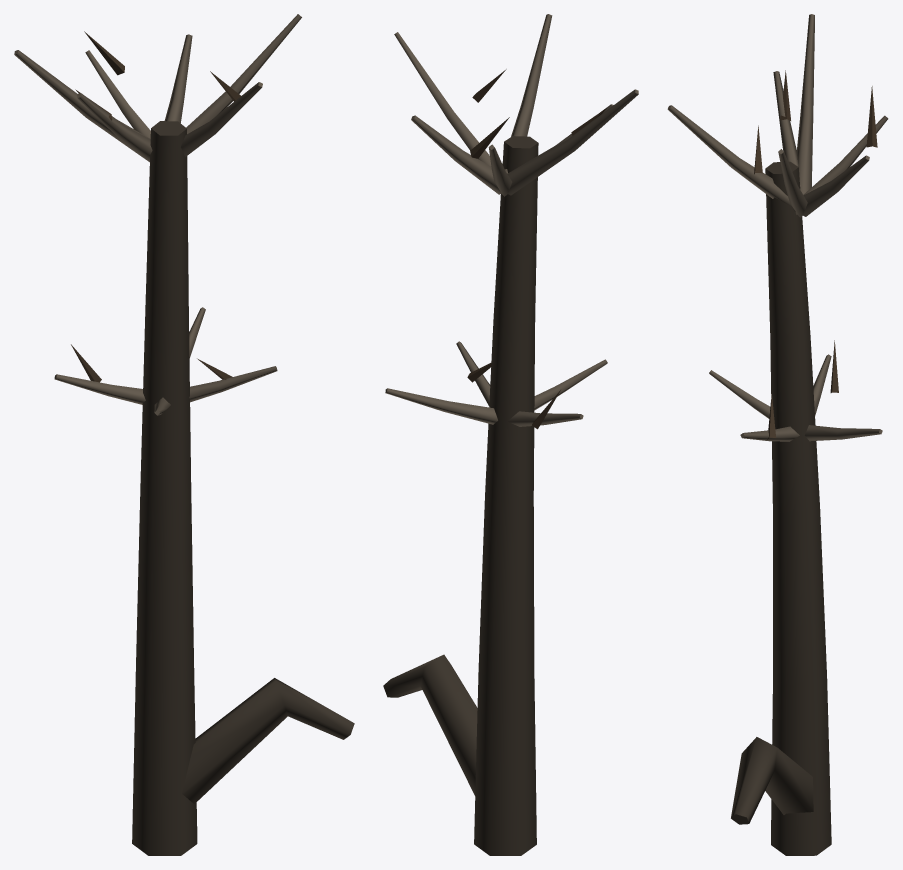
The model's file is land-forest-07.glb.
3 views of the same model, side by side, from view 1: azimuth 30°, elevation 25°; view 2: azimuth 150°, elevation 25°; view 3: azimuth 270°, elevation 25° (orthographic). The views are drawn at different scales.
Visible parts, largest first — view 1: land.forest.07; view 2: land.forest.07; view 3: land.forest.07.
Boxes of the visible parts, <box> form: land.forest.07: <box>14,14,354,855</box>; land.forest.07: <box>383,14,638,855</box>; land.forest.07: <box>667,14,888,855</box>.
Size of the model in its own units: 2.14 by 5.6 by 1.46.
